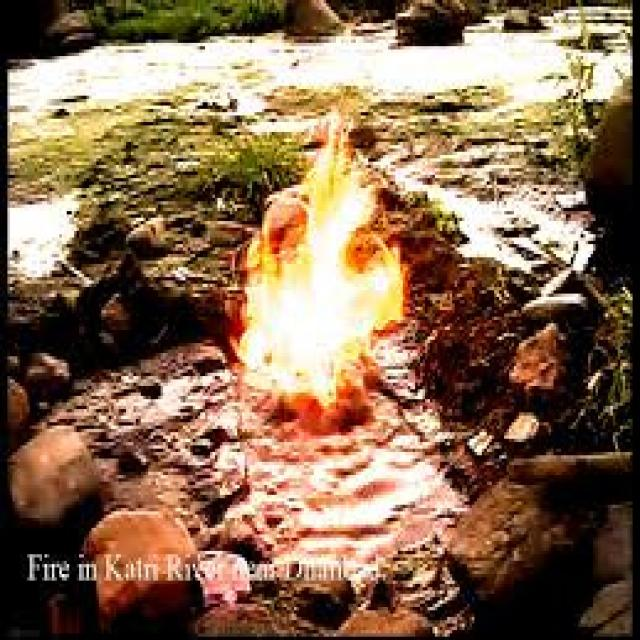fire: (232, 112, 403, 407)
